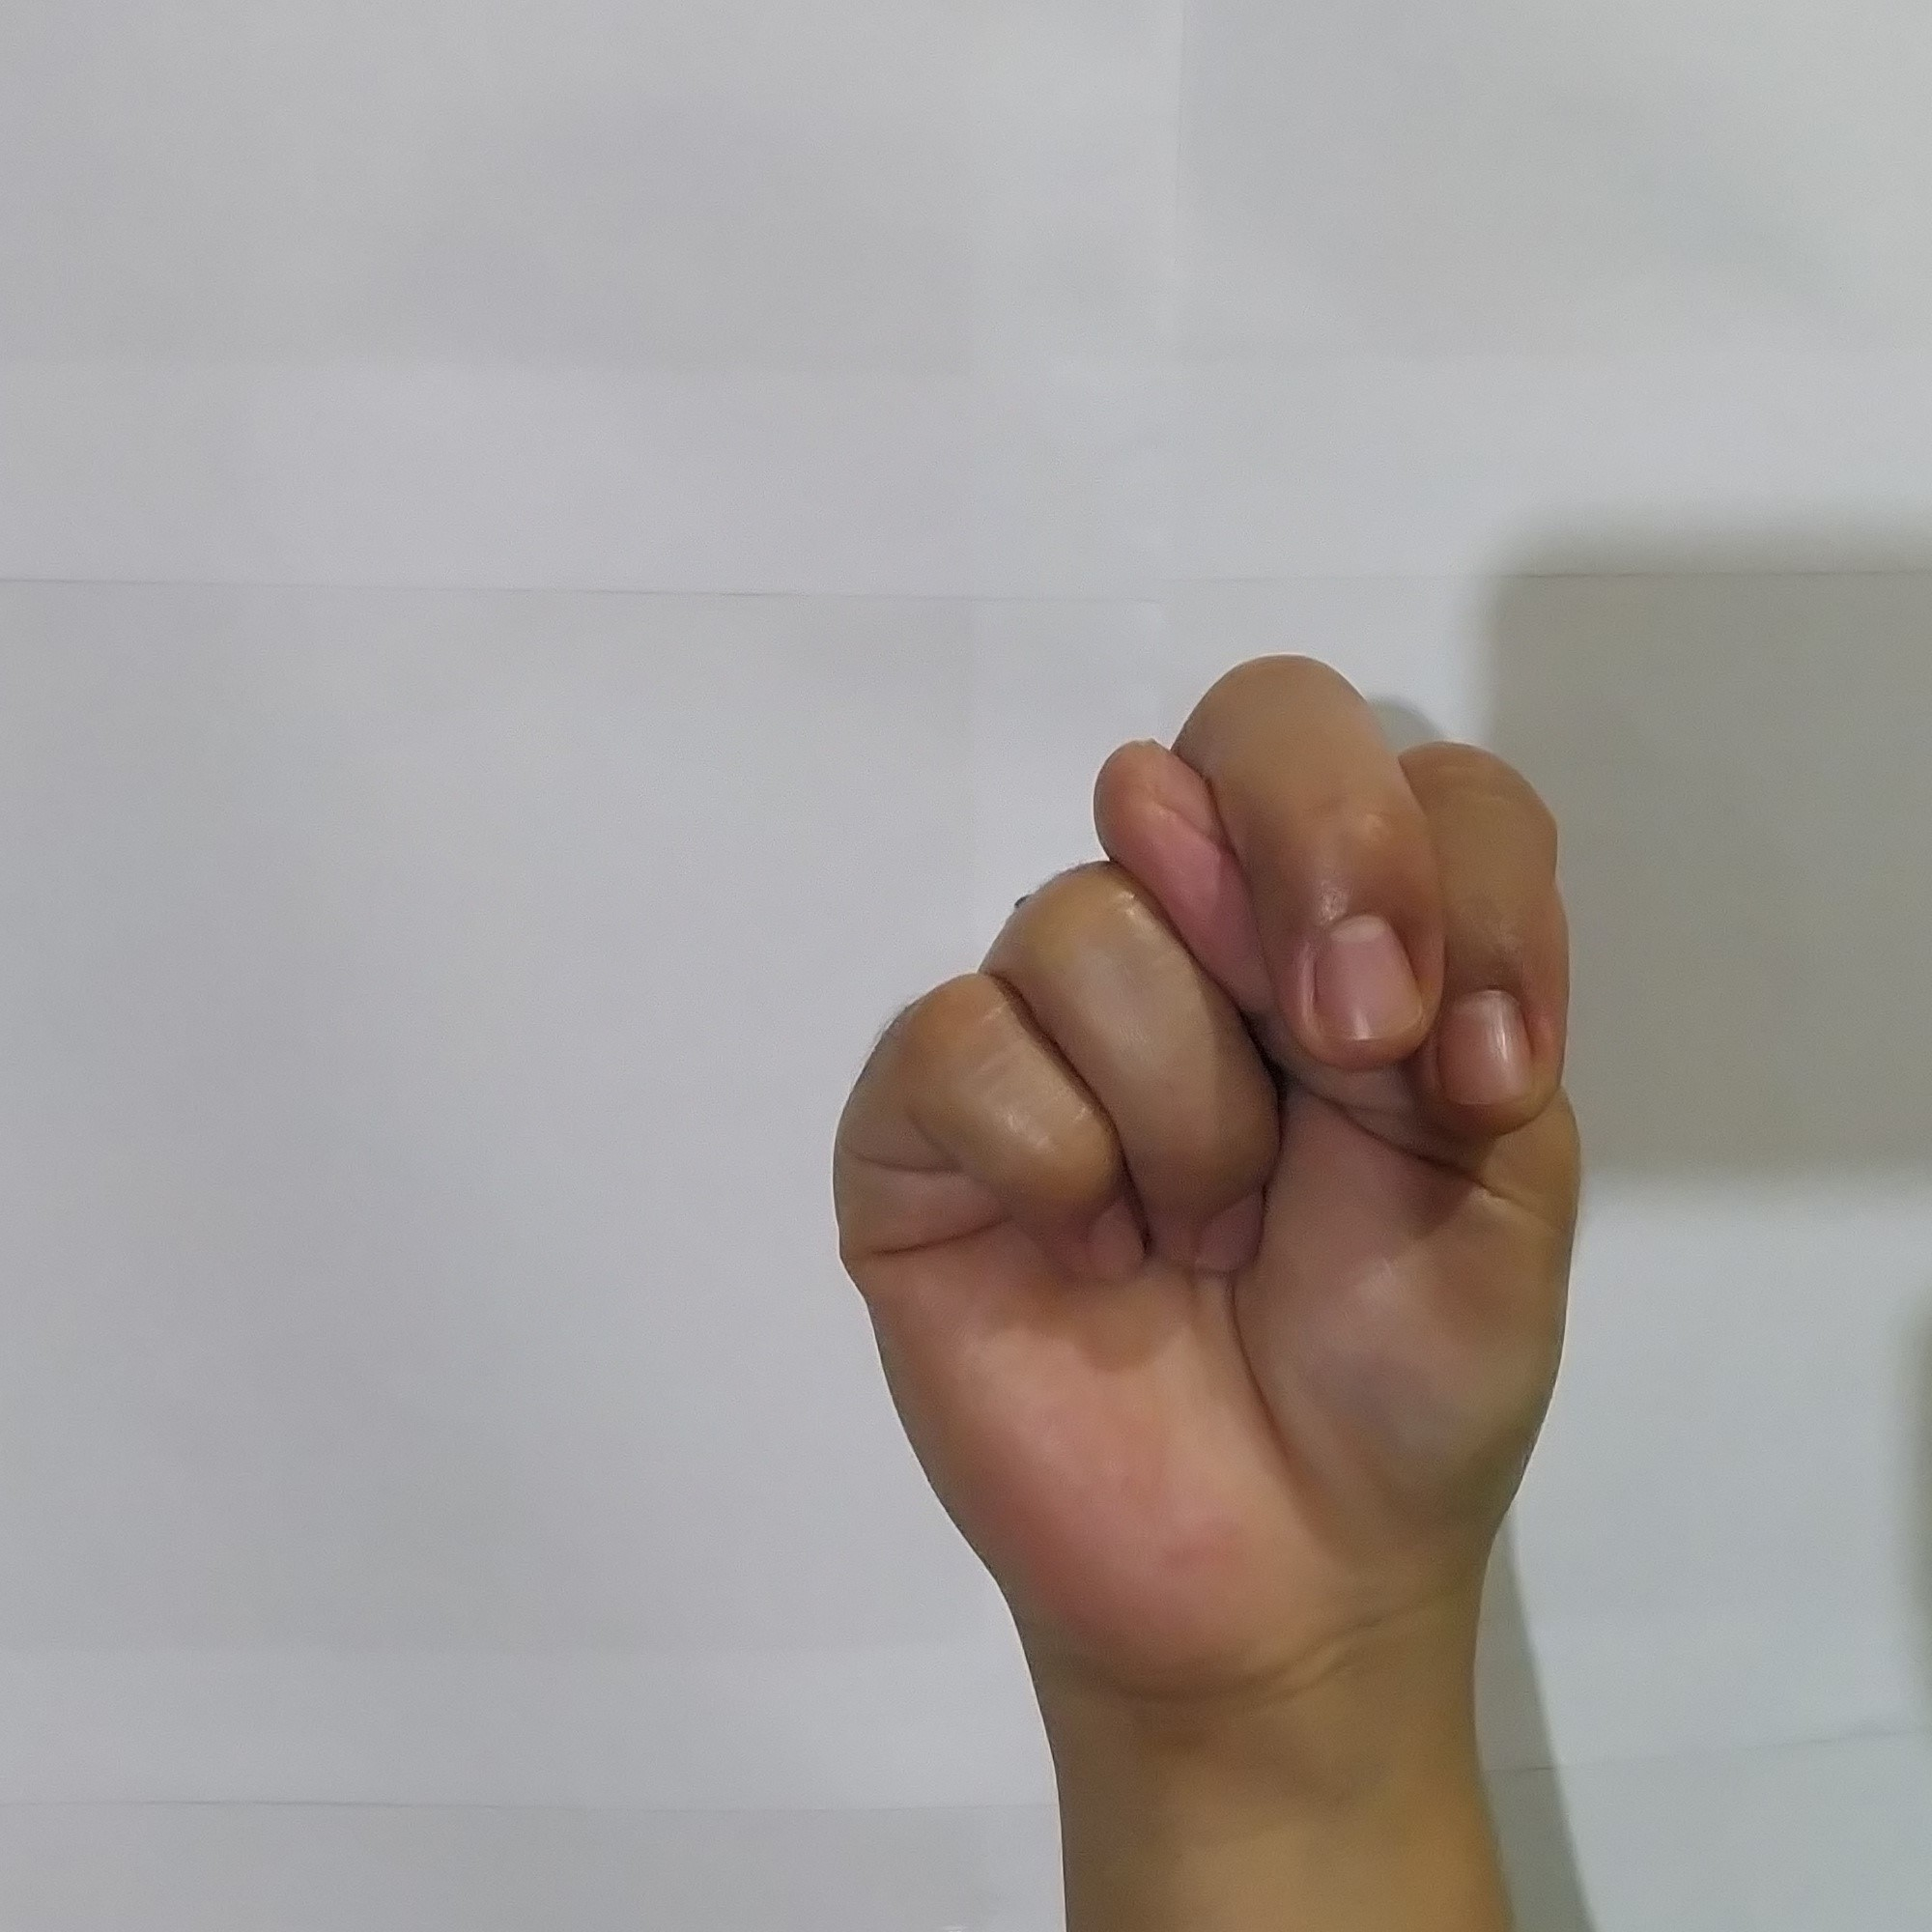N: (801, 628, 1610, 1675)
